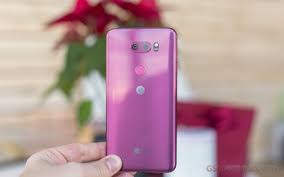lg: (104, 24, 178, 173)
